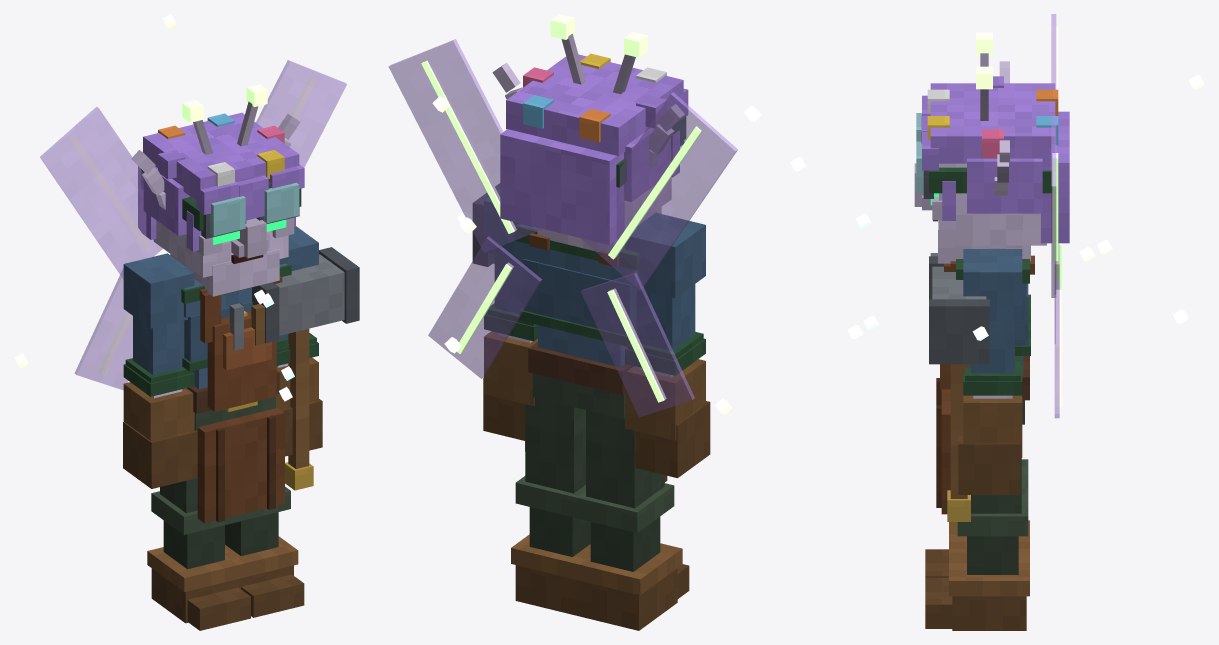
File: fairy_forgeron_v3.glb
3 views of the same model, side by side, from view 1: azimuth 30°, elevation 25°; view 2: azimuth 150°, elevation 25°; view 3: azimuth 270°, elevation 25° (orthographic). The views are drawn at different scales.
Visible parts, largest first — view 1: Torso, Head, ArmR, LegR, HandL, LegL, ArmL; view 2: Torso, Head, ArmR, LegR, LegL, ArmL, HandL; view 3: Head, ArmL, LegL, Torso, HandL, LegR.
Part boxes in pixels (x1,y1,x2,y2): Torso: (14,14,346,523); Head: (131,84,304,296); ArmR: (123,253,197,488); LegR: (147,478,250,630); HandL: (252,247,359,490); LegL: (225,486,304,617); ArmL: (276,226,322,456); Torso: (388,39,761,482); Head: (492,14,688,252); ArmR: (625,213,710,478); LegR: (571,410,689,630); LegL: (511,397,590,615); ArmL: (483,189,537,440); HandL: (472,183,525,451); Head: (914,32,1069,263); ArmL: (958,249,1022,494); LegL: (925,458,1029,630); Torso: (790,14,1204,514); HandL: (929,256,989,521); LegR: (925,459,1029,577).
Bounding box in the file's own units: 0.7287 × 1.11 × 0.7622.
Materials: 46 (46 with a texture image).
